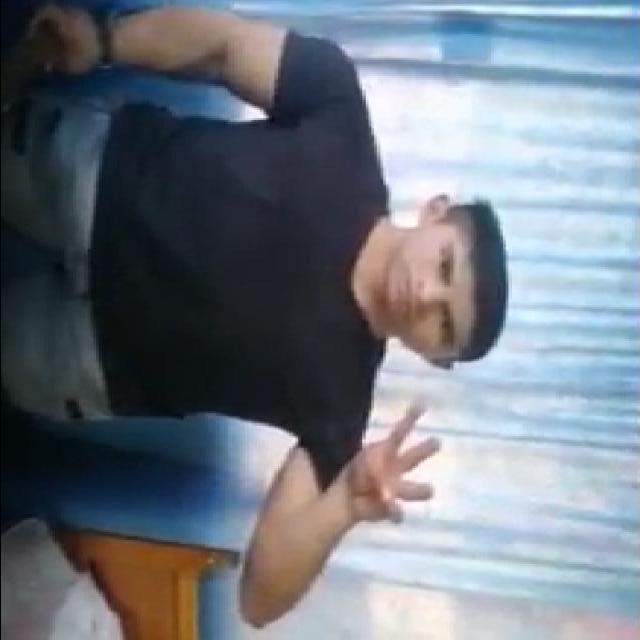W: (324, 387, 446, 532)
